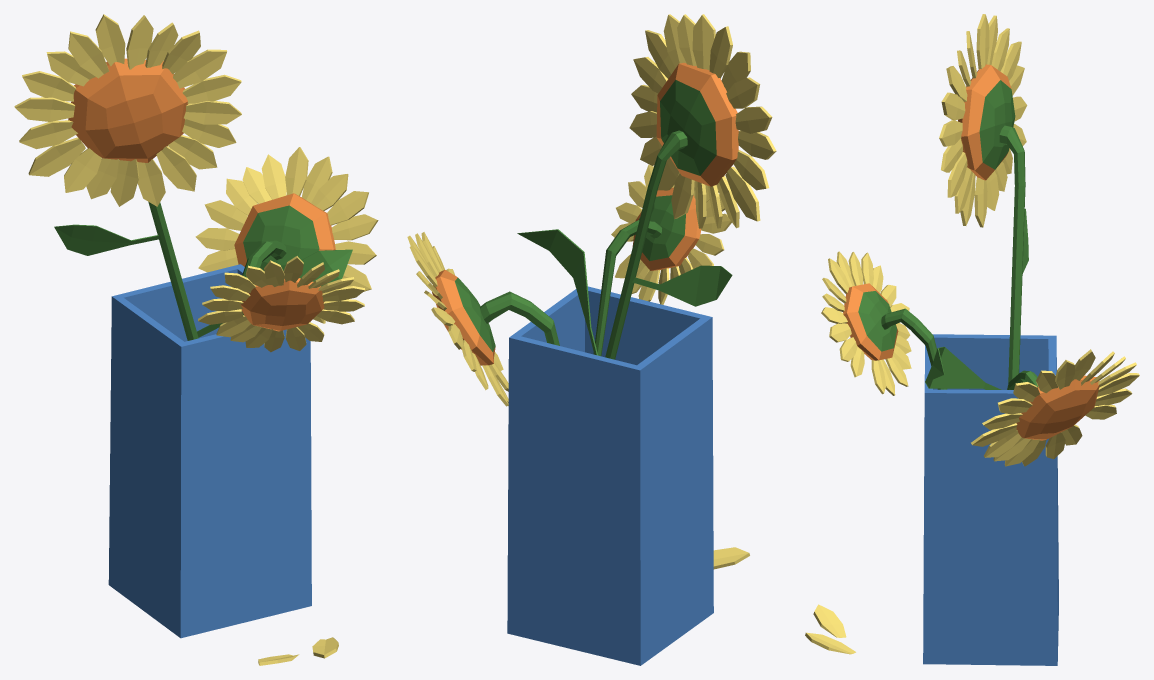
The model's file is Vase_with_Sunflowers.fbx.
The picture shows the model from 3 angles, left to right: view 1: azimuth 30°, elevation 25°; view 2: azimuth 150°, elevation 25°; view 3: azimuth 270°, elevation 25°; orthographic projection. The views are drawn at different scales.
Parts seen in each view (by area): view 1: Vase_with_Sunflowers; view 2: Vase_with_Sunflowers; view 3: Vase_with_Sunflowers.
Part boxes in pixels (x1=…): Vase_with_Sunflowers: x1=14, y1=14, x2=378, y2=665; Vase_with_Sunflowers: x1=407, y1=14, x2=776, y2=665; Vase_with_Sunflowers: x1=805, y1=14, x2=1139, y2=665.
Bounding box in the file's own units: 46.24 × 40.8 × 76.97.
